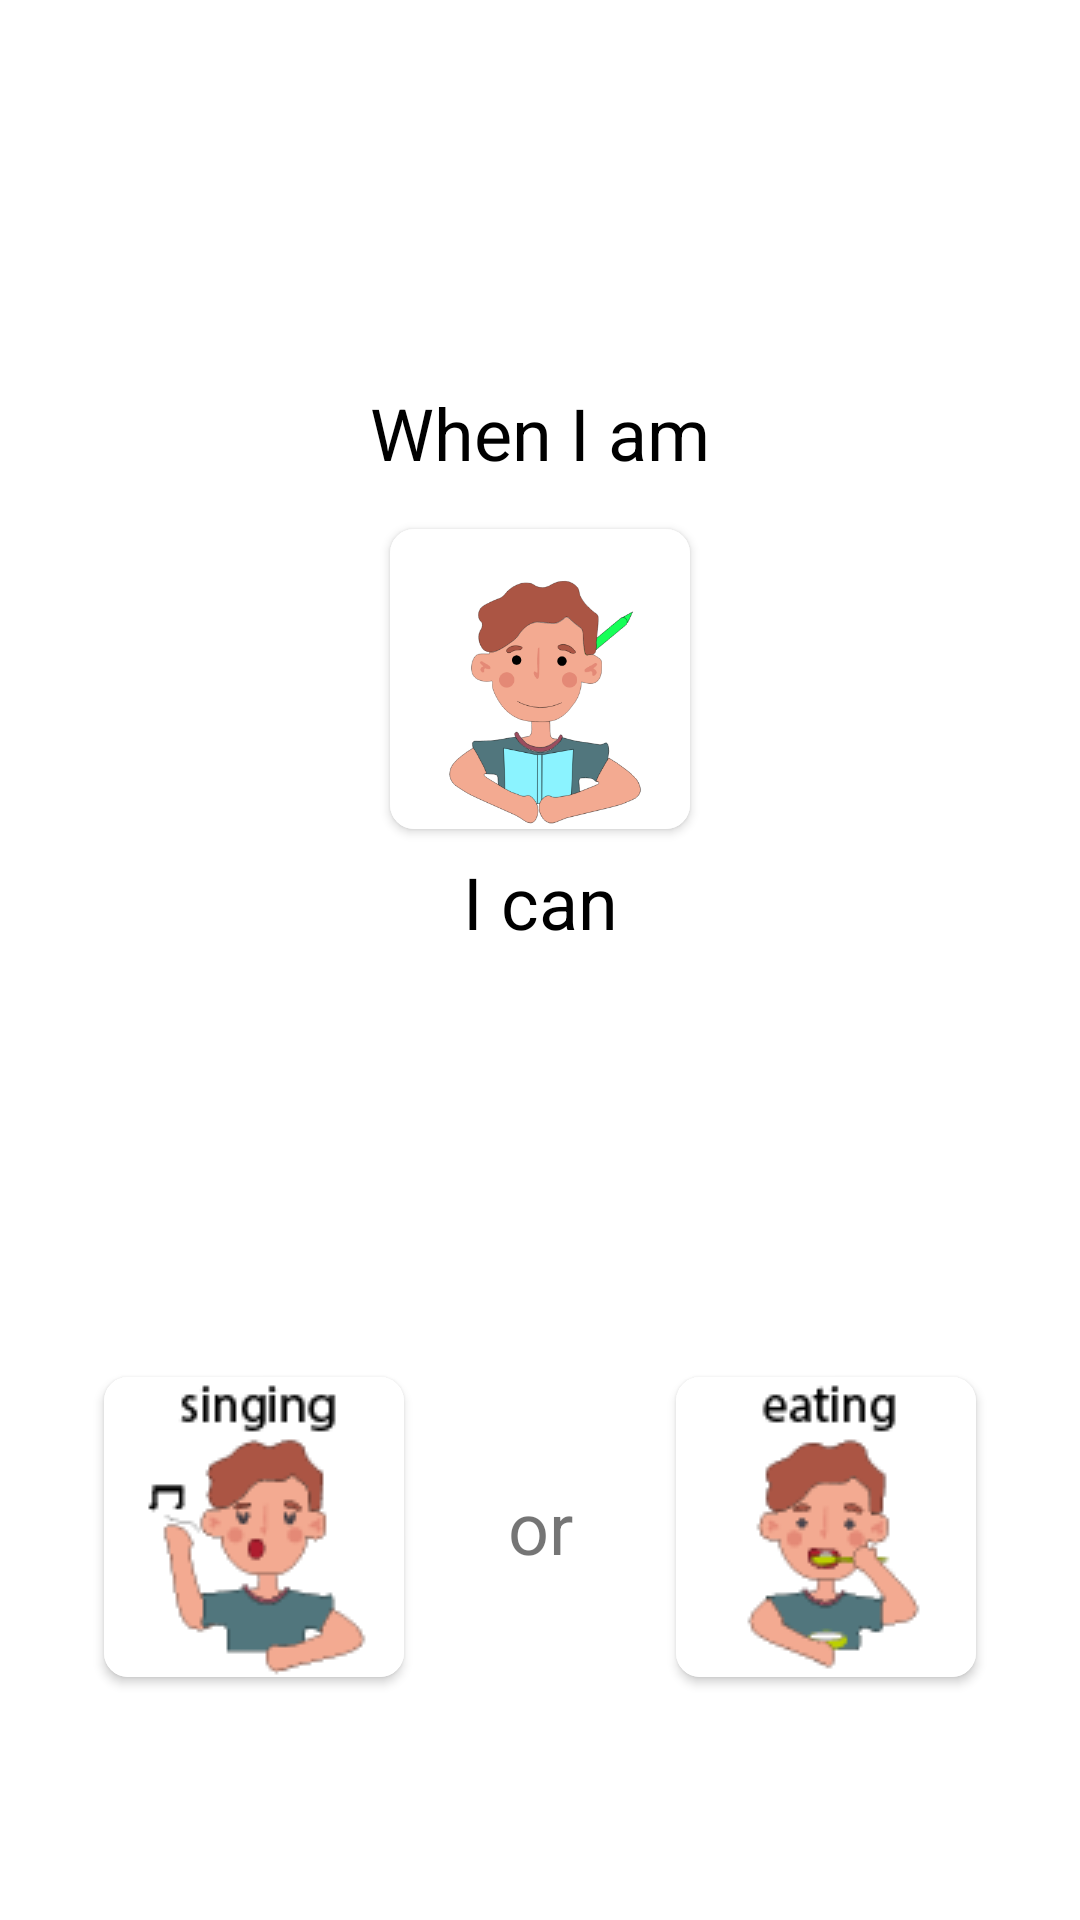

Icons on this 1080w x 1920h Android screen, each with its box as (x1, y1, x2, y2):
learning: (390, 581, 690, 829)
